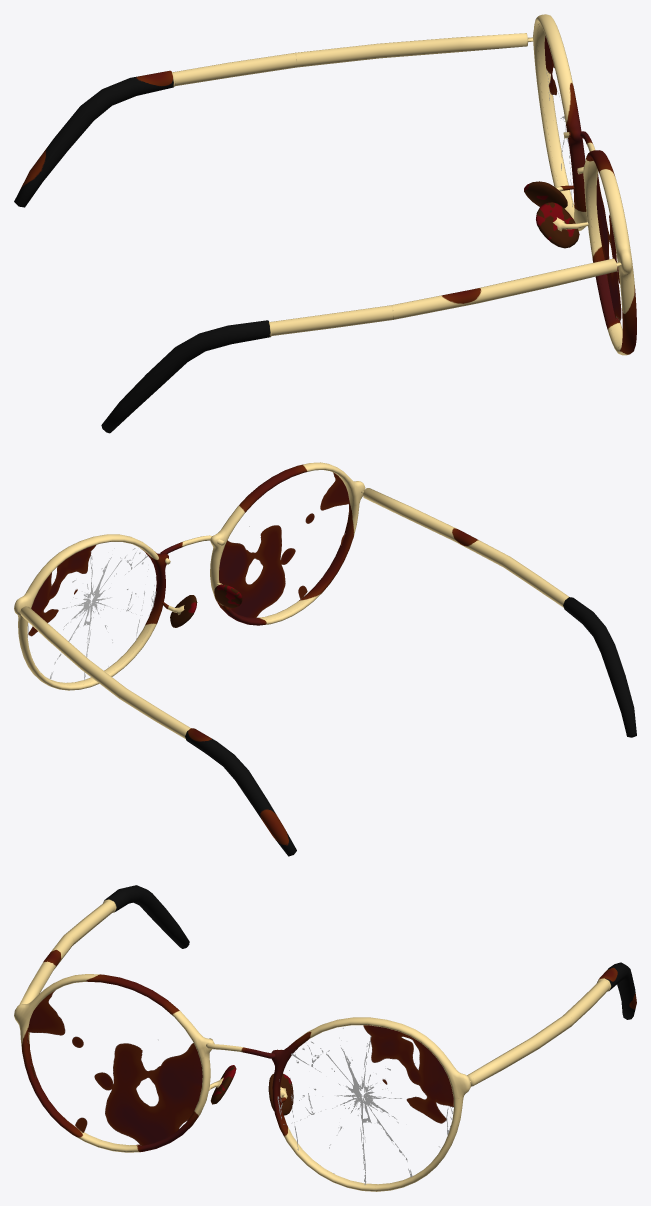
The model's file is Sketchfab_2021_03_06_08_06_32.fbx.
3 views of the same model, one above another, from view 1: azimuth 30°, elevation 25°; view 2: azimuth 150°, elevation 25°; view 3: azimuth 270°, elevation 25° (orthographic). The views are drawn at different scales.
Visible parts, largest first — view 1: Body_2_Lo, Body_Lo, Glasses_Lo_dec; view 2: Body_2_Lo, Body_Lo, Glasses_Lo_dec; view 3: Glasses_Lo_dec, Body_Lo, Body_2_Lo.
Part boxes in pixels (x1=…): Body_2_Lo: x1=14, y1=33, x2=617, y2=433; Body_Lo: x1=524, y1=14, x2=636, y2=355; Glasses_Lo_dec: x1=544, y1=36, x2=621, y2=320; Body_2_Lo: x1=20, y1=488, x2=636, y2=856; Body_Lo: x1=14, y1=462, x2=365, y2=690; Glasses_Lo_dec: x1=27, y1=472, x2=349, y2=680; Glasses_Lo_dec: x1=27, y1=990, x2=453, y2=1184; Body_Lo: x1=14, y1=974, x2=470, y2=1191; Body_2_Lo: x1=19, y1=885, x2=636, y2=1103.
Size of the model in its own units: 16.71 by 5.01 by 16.96.
